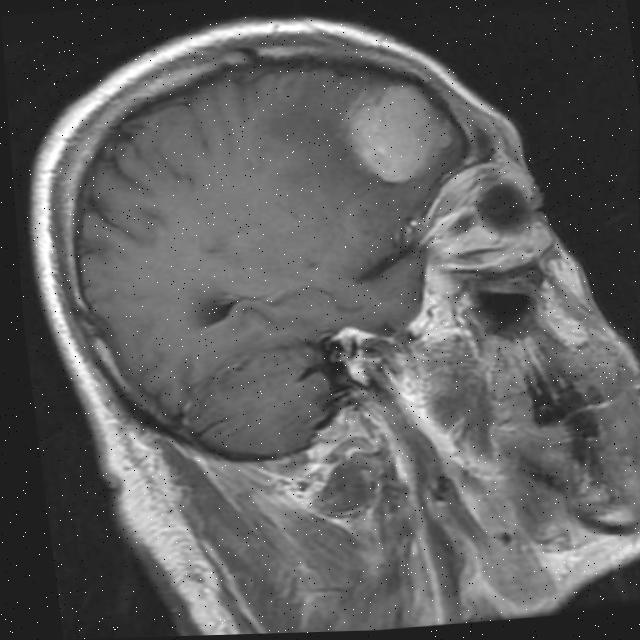Meningioma: (338, 78, 461, 189)
